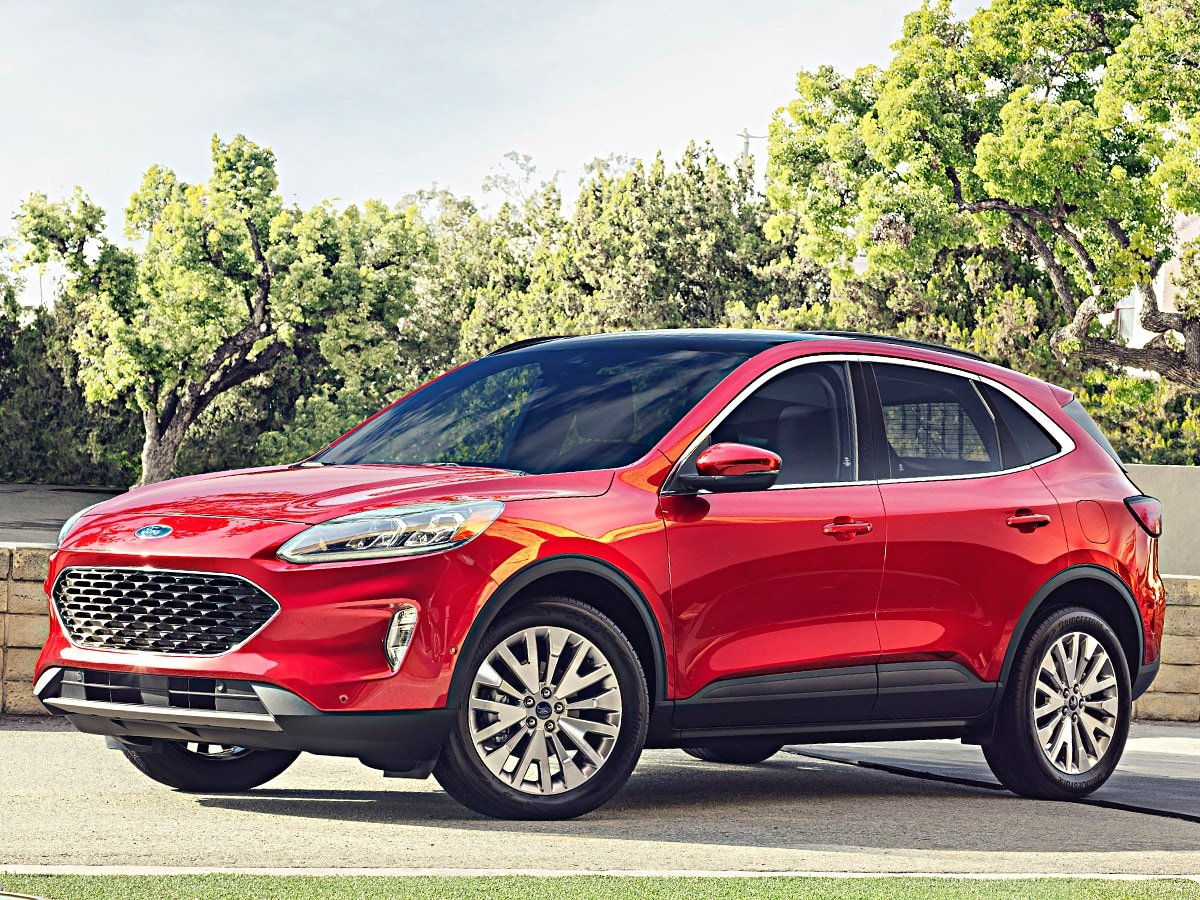car: (31, 332, 1166, 822)
